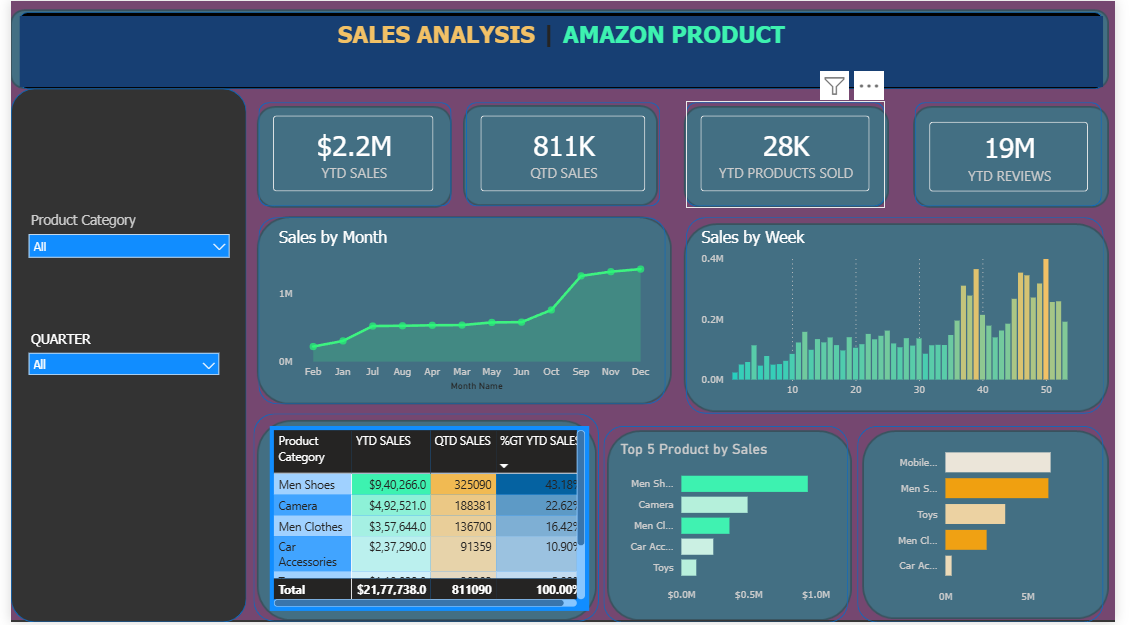

What the dashboard file says about the page in this screenshot:
{"tool":"powerbi","page":{"name":"Page 1","canvas":[1280,720],"ordinal":0},"visuals":[{"type":"shape","box":[9.6,12.3,1255.6,89.2],"z":0},{"type":"textbox","box":[10.9,16.9,1255.9,82],"z":1000},{"type":"shape","box":[0,101.5,273.1,618.9],"z":2000},{"type":"cardVisual","fields":{"Data":["Amazon_Data.YTD SALES"]},"box":[286.8,116.6,220.9,122.1],"z":3000},{"type":"shape","box":[286.8,118,223.7,120.8],"z":4000},{"type":"shape","box":[1048.4,118,216.8,120.8],"z":5000},{"type":"shape","box":[782.2,118,230.5,120.8],"z":6000},{"type":"shape","box":[526.9,118,225,120.8],"z":7000},{"type":"cardVisual","fields":{"Data":["Amazon_Data.QTD SALES"]},"box":[526.9,116.6,225,122.1],"z":8000},{"type":"cardVisual","fields":{"Data":["Amazon_Data.YTD PRODUCTS SOLD"]},"box":[782.2,116.6,230.5,122.1],"z":9000},{"type":"cardVisual","fields":{"Data":["Amazon_Data.YTD REVIEWS"]},"box":[1048.4,123.5,218.2,115.3],"z":10000},{"type":"shape","box":[286.8,251.1,472,216.8],"z":11000},{"type":"stackedAreaChart","title":"Sales by Month ","fields":{"Category":["Date Table.Month Name"],"Y":["Sum(Amazon_Data.Price(Dollar))"]},"box":[306,262.1,443.2,194.9],"z":12000},{"type":"shape","box":[782.2,251.1,484.4,227.8],"z":13000},{"type":"clusteredColumnChart","title":"Sales by Week","fields":{"Y":["Sum(Amazon_Data.Price(Dollar))"],"Category":["Date Table.Week"]},"box":[795.9,262.1,454.2,205.8],"z":14000},{"type":"shape","box":[281.1,479,400.5,241.3],"z":15000},{"type":"pivotTable","fields":{"Rows":["Amazon_Data.Product Category"],"Values":["Amazon_Data.YTD SALES1","Amazon_Data.QTD SALES","Amazon_Data.YTD SALES"]},"box":[300.4,492.2,370.4,214.7],"z":16000},{"type":"shape","box":[687.7,492.2,283.5,228],"z":17000},{"type":"shape","box":[981.1,492.6,285.4,227.8],"z":18000},{"type":"barChart","title":"Top 5 Product by Sales ","fields":{"Category":["Amazon_Data.Product Category"],"Y":["Amazon_Data.YTD SALES"]},"box":[701.2,509.1,253.9,196.2],"z":19000},{"type":"barChart","title":"Top 5 Products by YTD REVIEWS","fields":{"Category":["Amazon_Data.Product Category"],"Y":["Amazon_Data.YTD REVIEWS"]},"box":[1012.2,498.3,237.7,208.7],"z":20000},{"type":"slicer","fields":{"Values":["Amazon_Data.Product Category"]},"box":[9.7,238.9,253.4,112.2],"z":21000},{"type":"slicer","fields":{"Values":["Date Table.Quarter"]},"box":[10.9,376.4,241.3,102.5],"z":22000}]}

Visuals, with their boxes in screenshot pixels (x1, y1, x2, y2), scaled from the page's 1280x720 canvas onto the 1136x625 screenshot:
shape: detection(9, 11, 1123, 88)
textbox: detection(10, 15, 1124, 86)
shape: detection(0, 88, 242, 624)
cardVisual - Amazon_Data.YTD SALES: detection(255, 101, 451, 207)
shape: detection(255, 102, 453, 207)
shape: detection(930, 102, 1123, 207)
shape: detection(694, 102, 899, 207)
shape: detection(468, 102, 667, 207)
cardVisual - Amazon_Data.QTD SALES: detection(468, 101, 667, 207)
cardVisual - Amazon_Data.YTD PRODUCTS SOLD: detection(694, 101, 899, 207)
cardVisual - Amazon_Data.YTD REVIEWS: detection(930, 107, 1124, 207)
shape: detection(255, 218, 673, 406)
"Sales by Month " stackedAreaChart: detection(272, 228, 665, 397)
shape: detection(694, 218, 1124, 416)
"Sales by Week" clusteredColumnChart: detection(706, 228, 1109, 406)
shape: detection(249, 416, 605, 624)
pivotTable - Amazon_Data.Product Category x Amazon_Data.YTD SALES1: detection(267, 427, 595, 614)
shape: detection(610, 427, 862, 624)
shape: detection(871, 428, 1124, 624)
"Top 5 Product by Sales " barChart: detection(622, 442, 848, 612)
"Top 5 Products by YTD REVIEWS" barChart: detection(898, 433, 1109, 614)
slicer - Amazon_Data.Product Category: detection(9, 207, 234, 305)
slicer - Date Table.Quarter: detection(10, 327, 224, 416)
